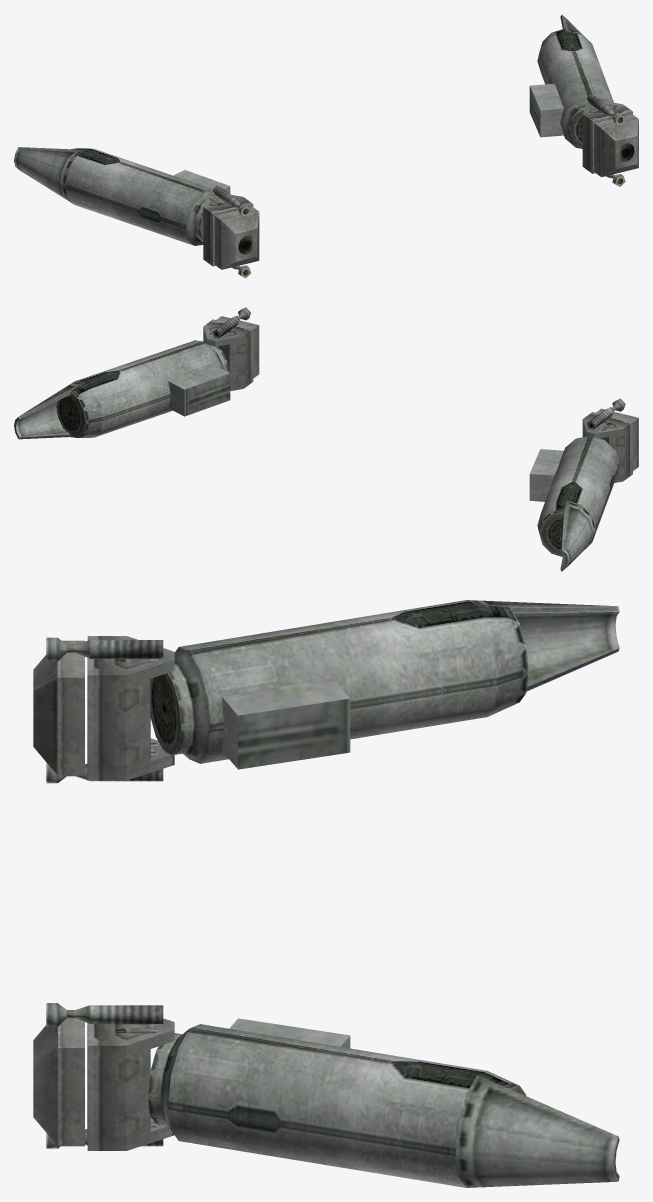
The model's file is kse_firespray_weapon2_s03_l0.fbx.
3 views of the same model, one above another, from view 1: azimuth 30°, elevation 25°; view 2: azimuth 150°, elevation 25°; view 3: azimuth 270°, elevation 25° (orthographic). The views are drawn at different scales.
Visible parts, largest first — view 1: mesh_node; view 2: mesh_node; view 3: mesh_node.
Part boxes in pixels (left/top/right/bottom): mesh_node: left=14, top=15, right=638, bottom=278; mesh_node: left=14, top=307, right=638, bottom=571; mesh_node: left=33, top=600, right=619, bottom=1187.
Size of the model in its own units: 5.86 by 0.7347 by 2.68.
1 material, 1 textured.
